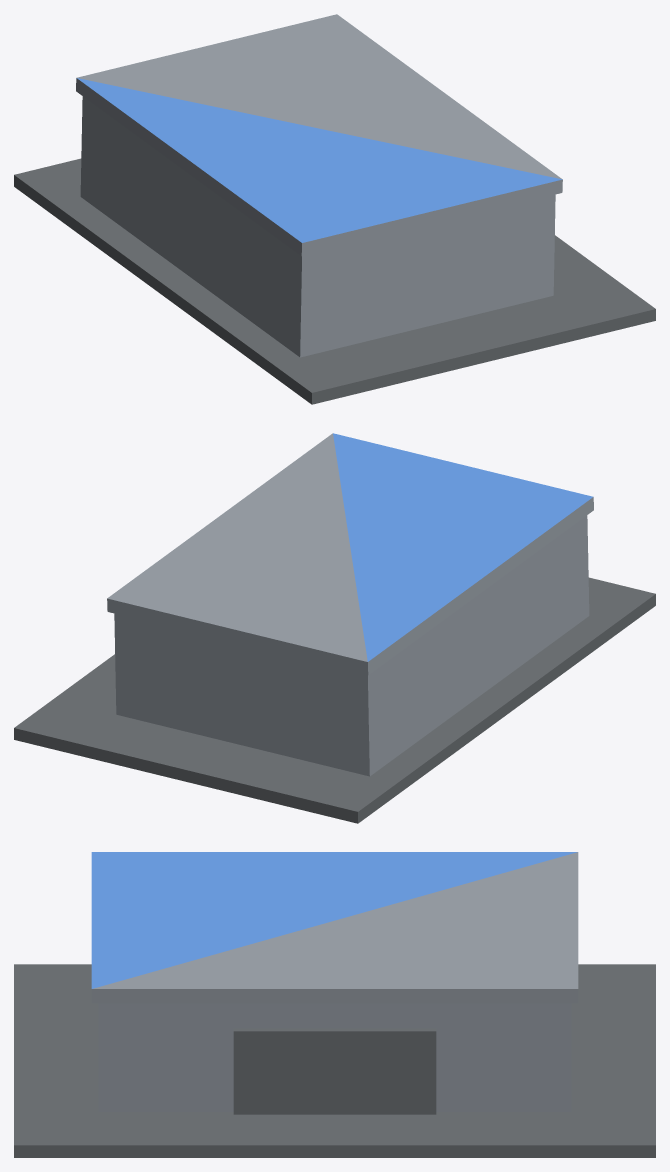
File: veyran_barracks_damaged.glb
The picture shows the model from 3 angles, top to bottom: view 1: azimuth 30°, elevation 25°; view 2: azimuth 150°, elevation 25°; view 3: azimuth 270°, elevation 25°; orthographic projection. The views are drawn at different scales.
Visible parts, largest first — view 1: hull; view 2: hull; view 3: hull, door.
Boxes of the visible parts, x1,y1,x2,y2 form: hull: (14,14,655,404); hull: (14,433,655,823); hull: (14,852,655,1157); door: (233,1028,436,1114).
Size of the model in its own units: 7.6 by 2.72 by 11.4.
